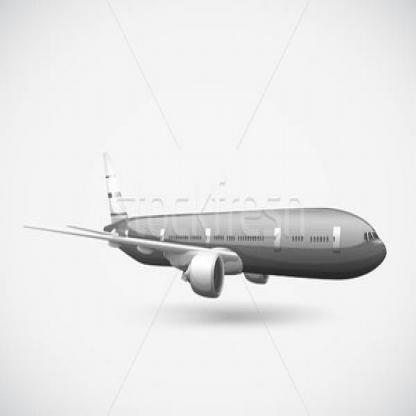CIV_Plane: (15, 149, 389, 316)
